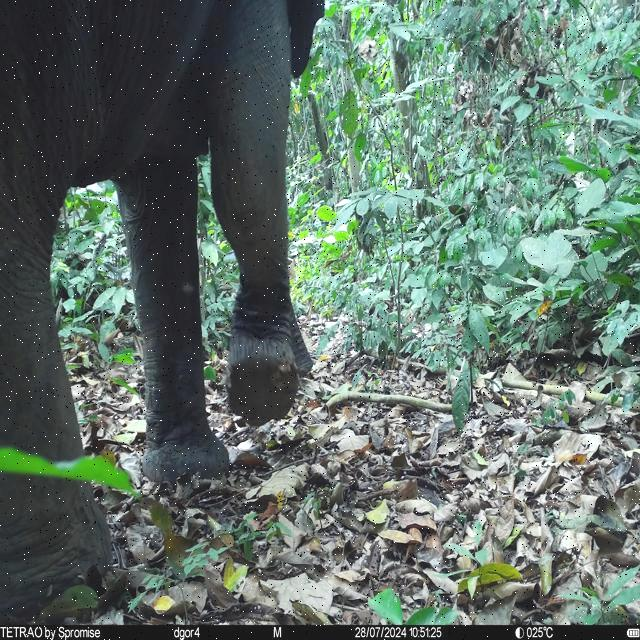elephant: (0, 41, 315, 626)
